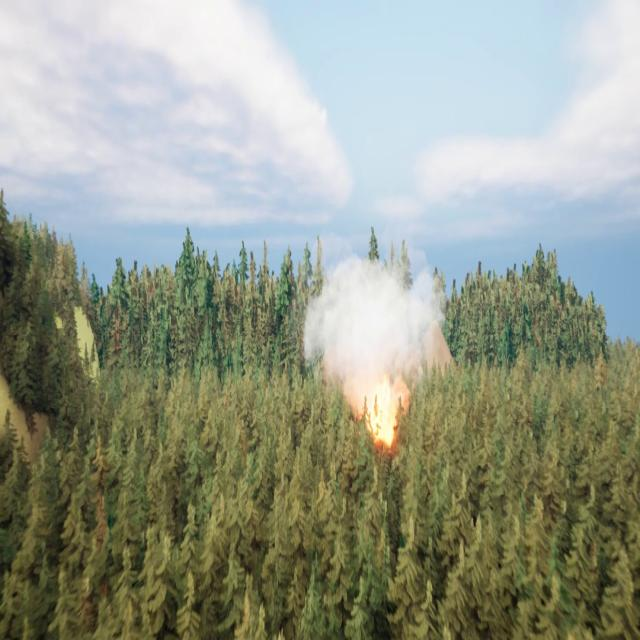fire: (365, 383, 402, 452)
smoke: (302, 258, 446, 417)
